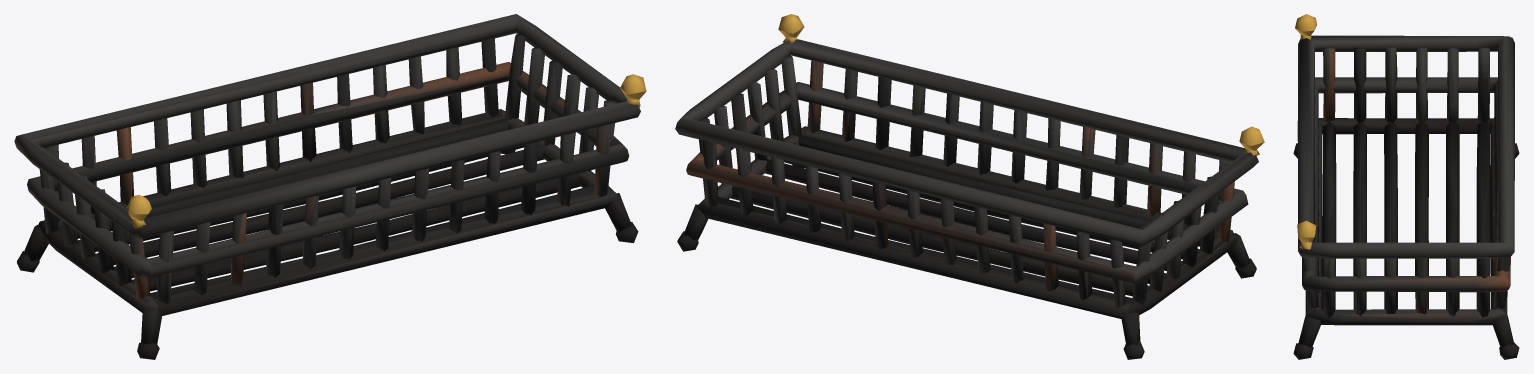
File: ember_grate_lod2.glb
3 renders of one model, left to right at view 1: azimuth 30°, elevation 25°; view 2: azimuth 150°, elevation 25°; view 3: azimuth 270°, elevation 25°, orthographic. The views are drawn at different scales.
Parts seen in each view (by area): view 1: ember_grate.001; view 2: ember_grate.001; view 3: ember_grate.001.
Part boxes in pixels (x1=…): ember_grate.001: x1=14, y1=14, x2=646, y2=359; ember_grate.001: x1=675, y1=14, x2=1264, y2=359; ember_grate.001: x1=1293, y1=14, x2=1519, y2=359.
Bounding box in the file's own units: 49.65 × 15.13 × 21.98.
